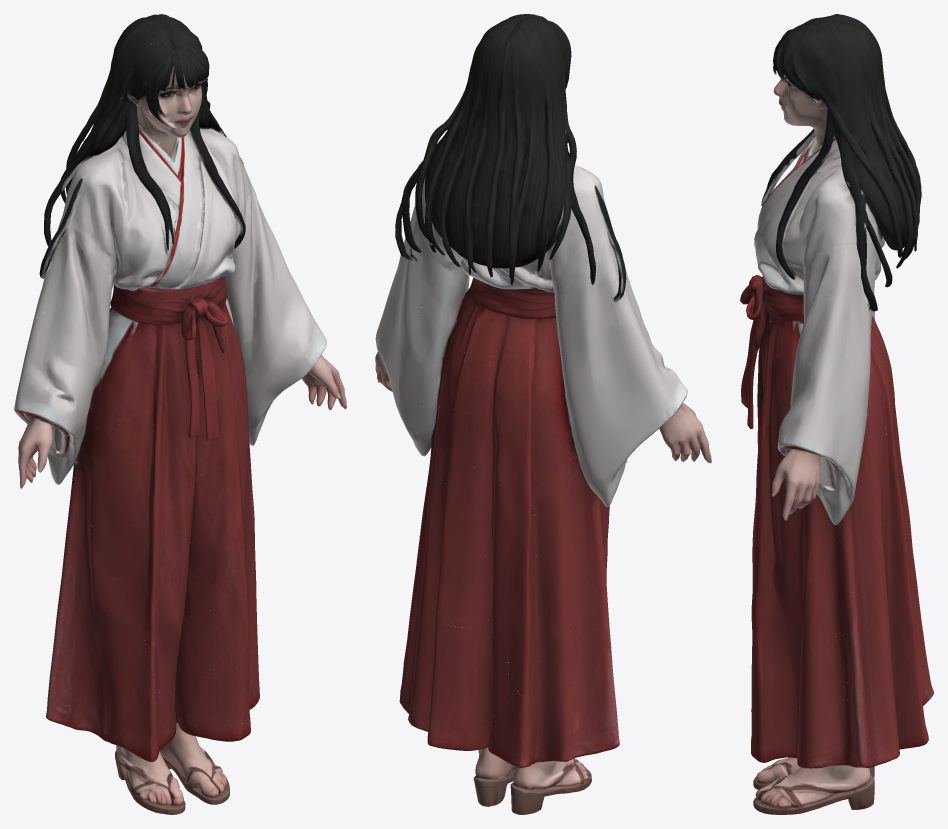
Rendered from miko.glb.
3 views of the same model, side by side, from view 1: azimuth 30°, elevation 25°; view 2: azimuth 150°, elevation 25°; view 3: azimuth 270°, elevation 25° (orthographic). The views are drawn at different scales.
Visible parts, largest first — view 1: tripo_node_a295f6de-2360-44ed-ae54-65f535036c50; view 2: tripo_node_a295f6de-2360-44ed-ae54-65f535036c50; view 3: tripo_node_a295f6de-2360-44ed-ae54-65f535036c50.
Boxes of the visible parts, box(x1,y1,x2,y2) form: tripo_node_a295f6de-2360-44ed-ae54-65f535036c50: box(14, 14, 346, 814); tripo_node_a295f6de-2360-44ed-ae54-65f535036c50: box(375, 14, 711, 814); tripo_node_a295f6de-2360-44ed-ae54-65f535036c50: box(740, 14, 933, 814).
Bounding box in the file's own units: 0.4488 × 1 × 0.2258.
Materials: 1 (1 with a texture image).
